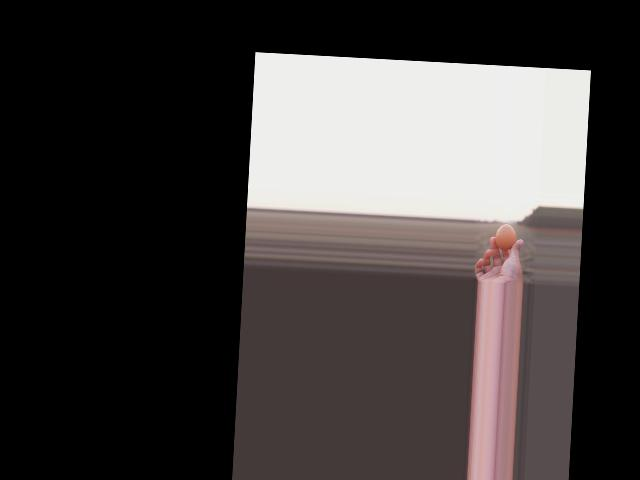egg: (494, 223, 516, 250)
